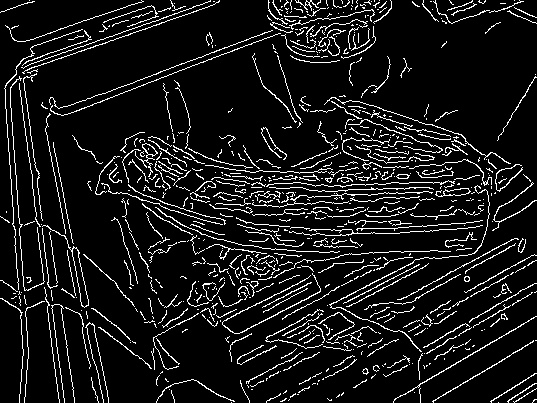cucumber: (103, 132, 493, 267)
